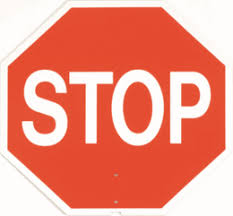Stop: (12, 8, 227, 212)
